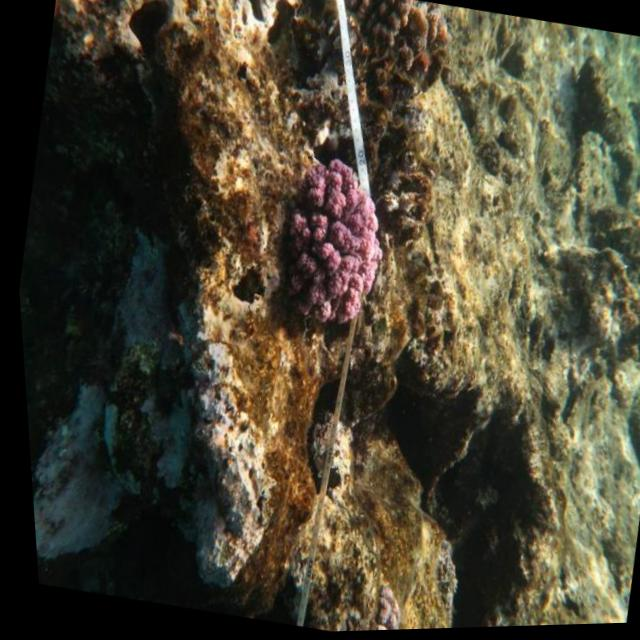Healthy Coral: (261, 155, 399, 340)
